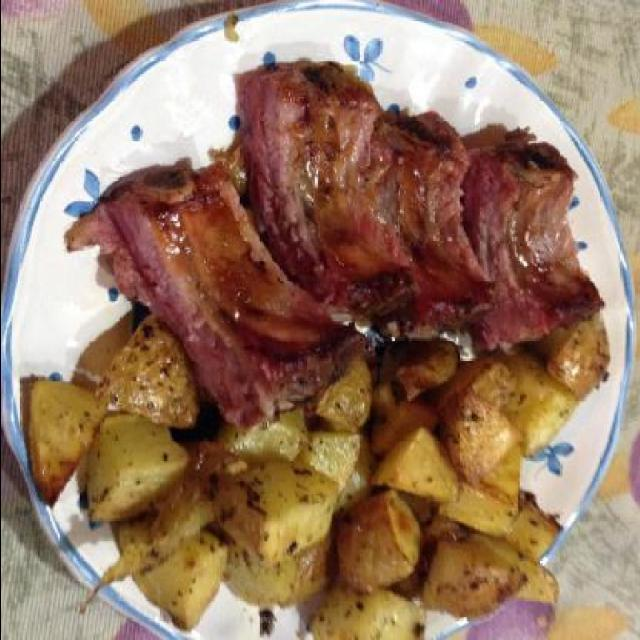Potato: (27, 311, 610, 640)
